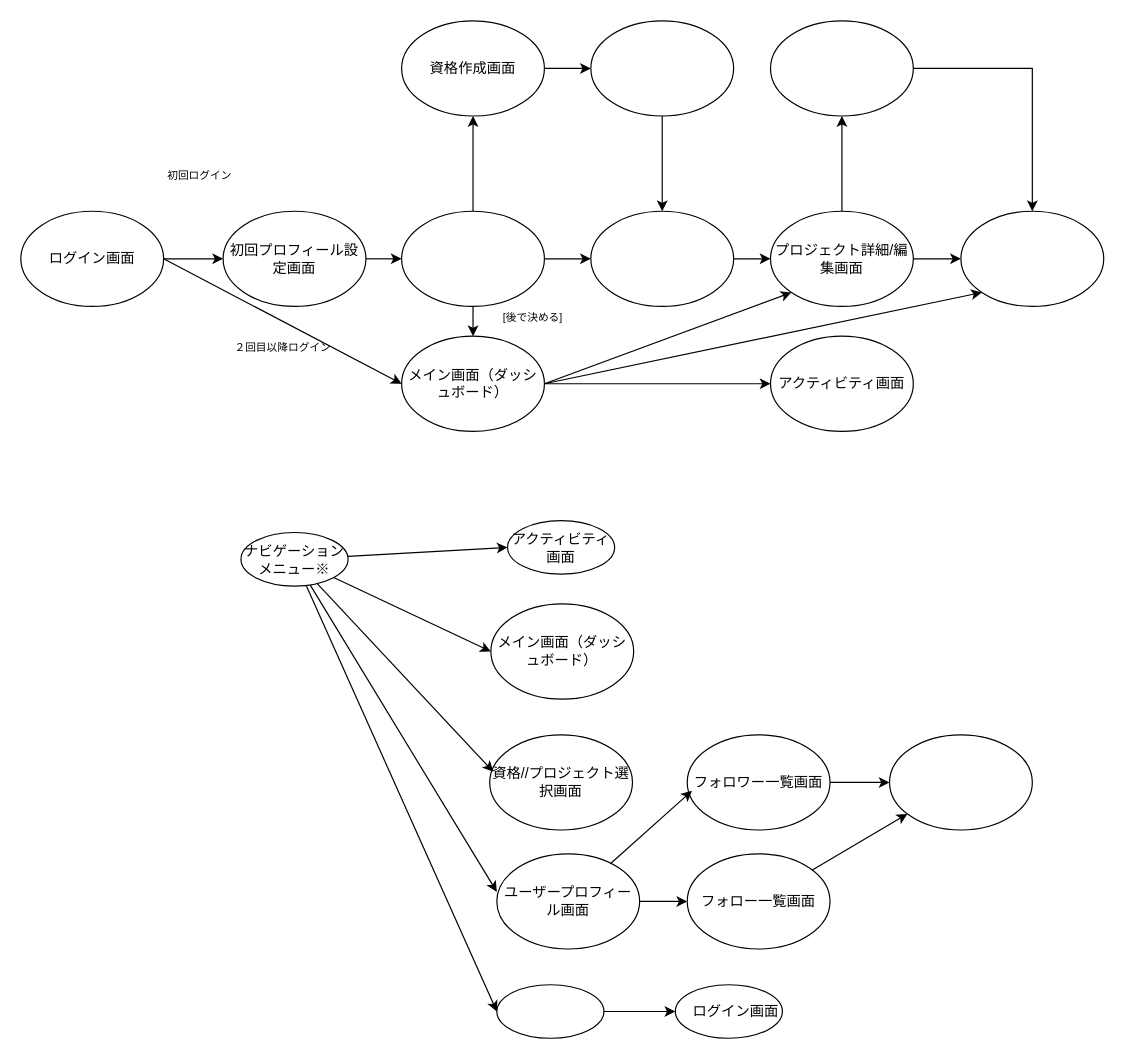
Some shapes in this 1125 by 1059 pixel diagram are drawn without their labels. The centre of each missing label's shape, as x and y in pixels:
タスク詳細画面: [1032,258]
タスク追加画面: [841,68]
プロジェクト 作成画面: [662,68]
プロジェクト確認画面: [662,258]
ユーザー詳細画面 （ユーザーによる動的）: [960,782]
ログアウトボタン: [550,1011]
資格/プロジェクト選択画面: [472,258]
